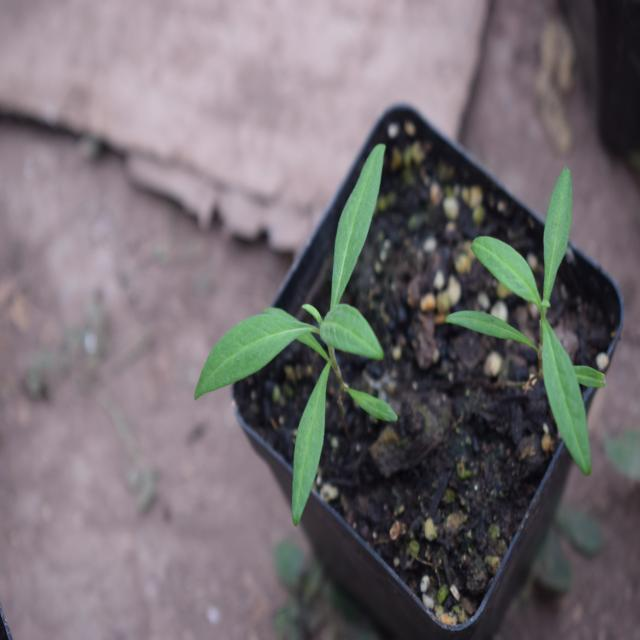white_smart_weed: (204, 96, 448, 494), (468, 179, 627, 475)
